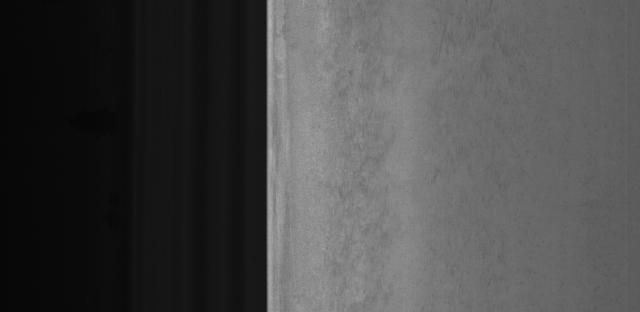silk_spot: (316, 42, 402, 299)
